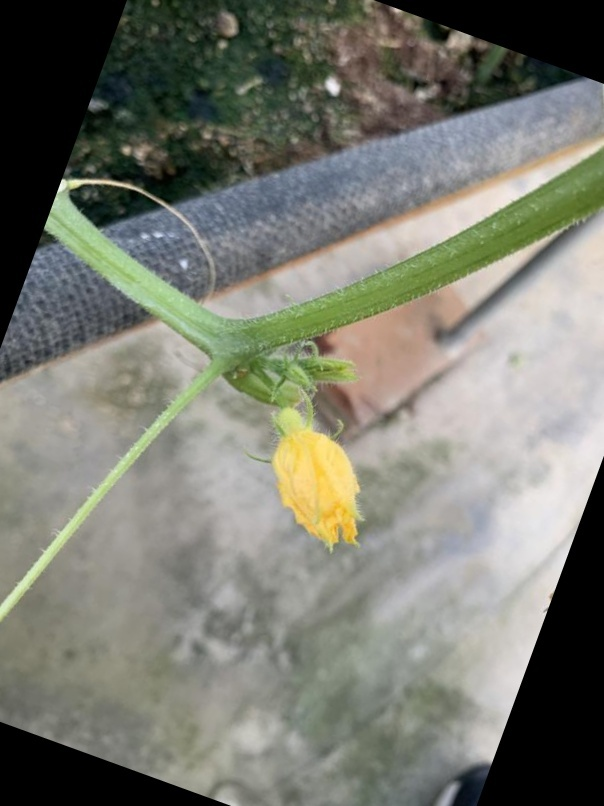bud: (236, 393, 434, 568)
